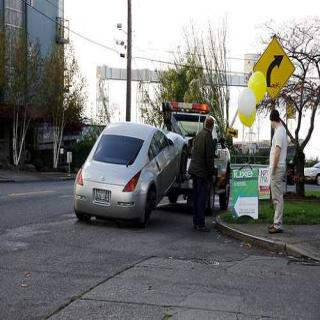Towing_truck: (160, 98, 233, 212)
